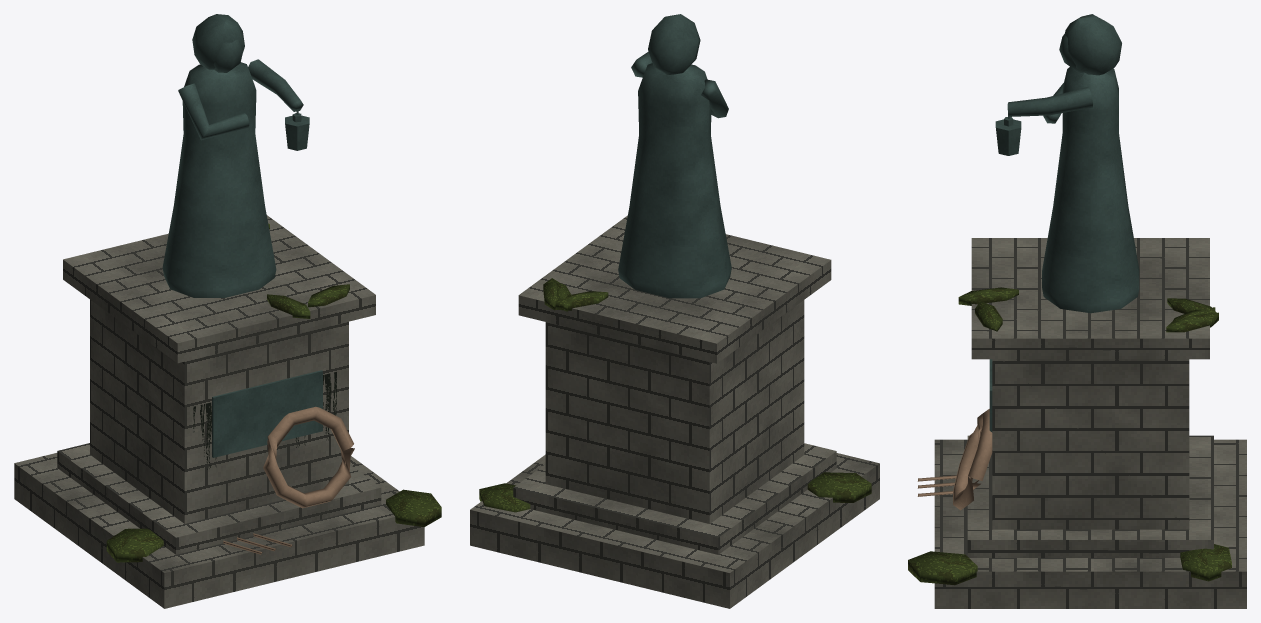
The model's file is park_statue.glb.
3 views of the same model, side by side, from view 1: azimuth 30°, elevation 25°; view 2: azimuth 150°, elevation 25°; view 3: azimuth 270°, elevation 25° (orthographic). The views are drawn at different scales.
Visible parts, largest first — view 1: plinth-col, figure, detail; view 2: plinth-col, figure, detail; view 3: plinth-col, figure, detail.
Boxes of the visible parts, box(x1,y1,x2,y2) form: plinth-col: box(14, 215, 424, 608); figure: box(162, 14, 309, 297); detail: box(106, 223, 441, 562); plinth-col: box(470, 215, 879, 608); figure: box(618, 14, 731, 298); detail: box(479, 278, 871, 512); plinth-col: box(934, 238, 1246, 608); figure: box(995, 14, 1139, 313); detail: box(908, 287, 1231, 585).
Size of what is drawn, in the model's own units: 2.16 by 3.53 by 2.06.
5 materials, 5 textured.
